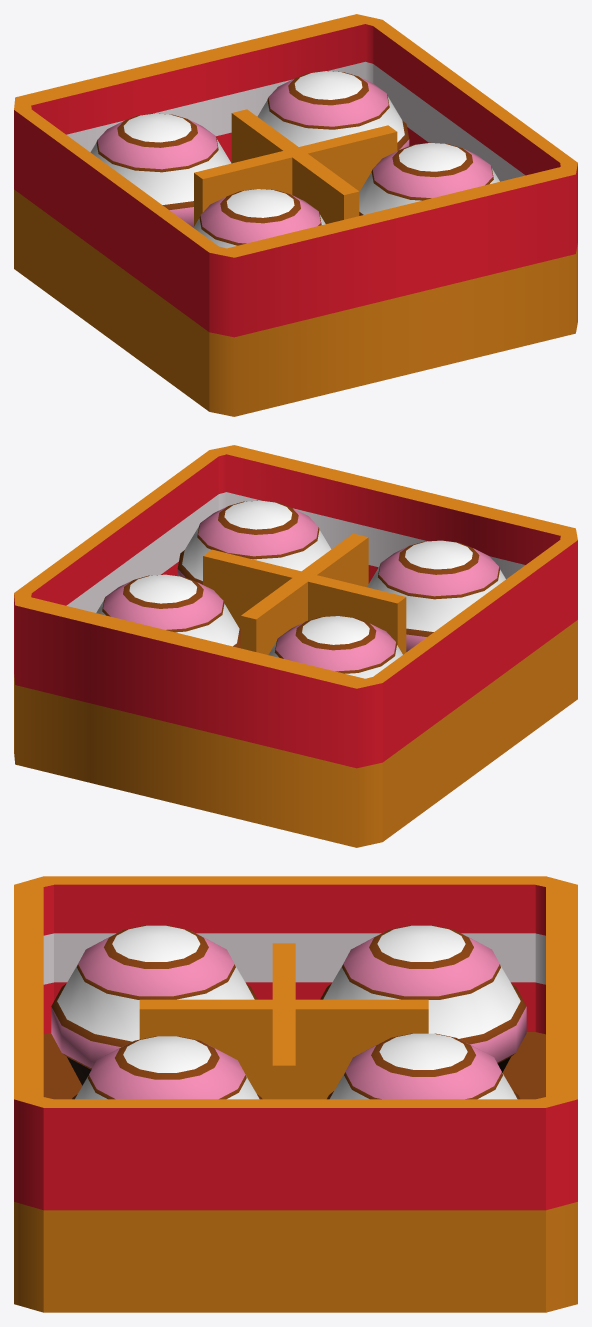
Rendered from Choco4-1.fbx.
3 renders of one model, top to bottom at view 1: azimuth 30°, elevation 25°; view 2: azimuth 150°, elevation 25°; view 3: azimuth 270°, elevation 25°, orthographic. The views are drawn at different scales.
Parts seen in each view (by area): view 1: Choco4-1; view 2: Choco4-1; view 3: Choco4-1.
Boxes of the visible parts, box(x1,y1,x2,y2) form: Choco4-1: box(14, 14, 577, 416); Choco4-1: box(14, 445, 577, 847); Choco4-1: box(14, 876, 577, 1312).
Size of the model in its own units: 9.82 by 4.06 by 10.11.
